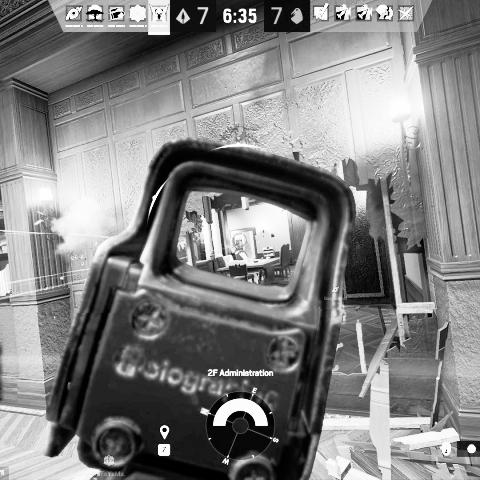Character: (230, 242, 238, 260)
Friend_label: (93, 452, 126, 480), (321, 284, 349, 303)
Head: (232, 244, 236, 248)
